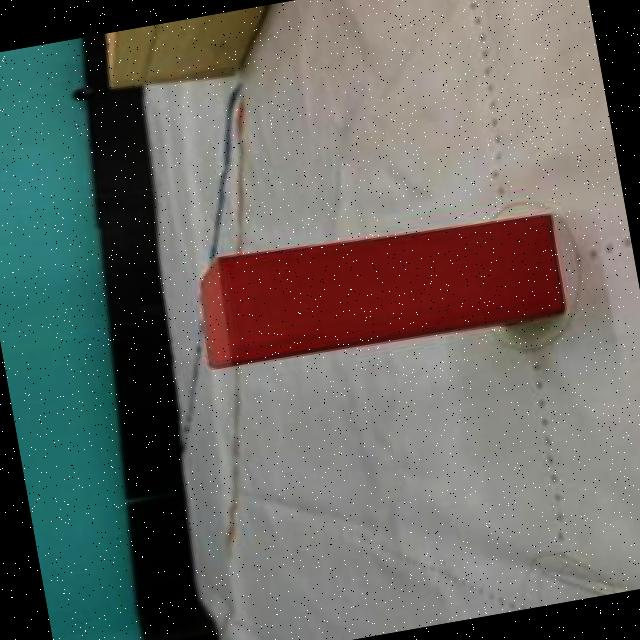redbox: (184, 198, 569, 376)
